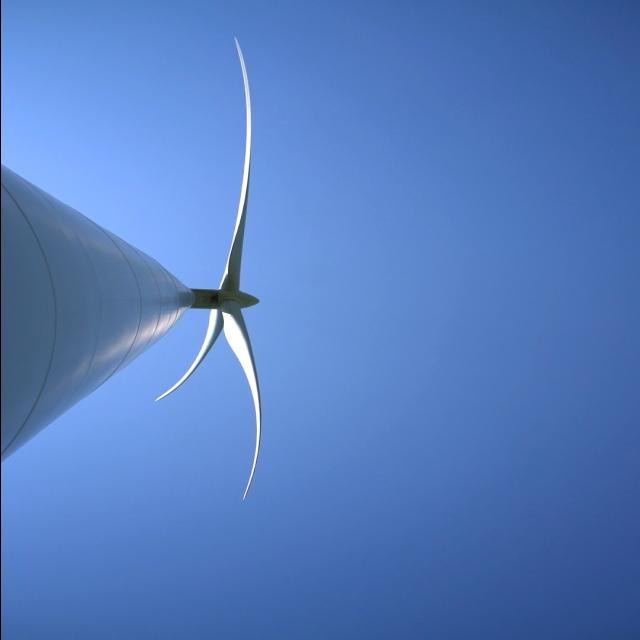blade 1: (150, 357, 217, 405)
blade 2: (208, 14, 282, 268)
blade 3: (225, 326, 271, 555)
